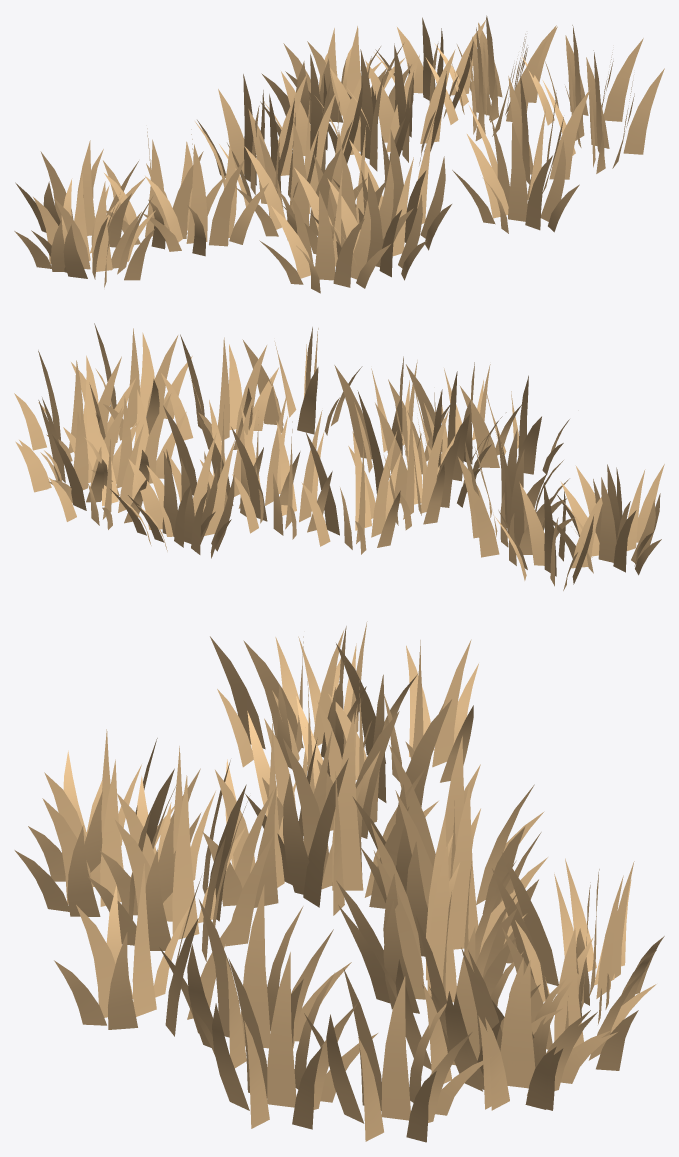
The model's file is Grass_4.fbx.
3 renders of one model, top to bottom at view 1: azimuth 30°, elevation 25°; view 2: azimuth 150°, elevation 25°; view 3: azimuth 270°, elevation 25°, orthographic. The views are drawn at different scales.
Visible parts, largest first — view 1: Grass_4; view 2: Grass_4; view 3: Grass_4.
Boxes of the visible parts, <box> form: Grass_4: <box>14,15,664,293</box>; Grass_4: <box>14,323,664,590</box>; Grass_4: <box>14,621,664,1142</box>.
Size of the model in its own units: 91.5 by 16.52 by 55.87.
1 material, 1 textured.
